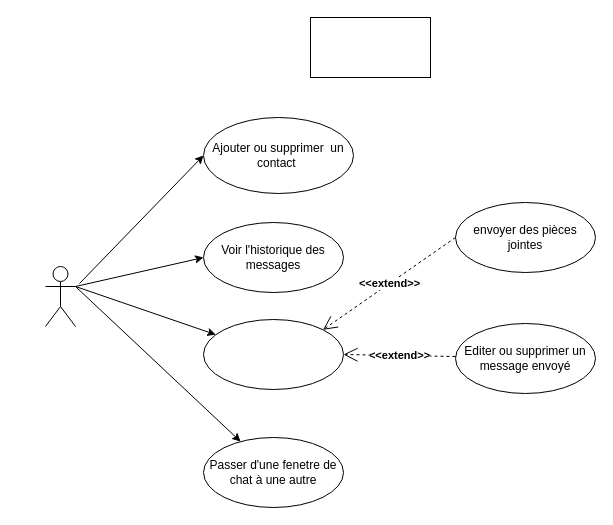
This 613x525 diagram has some shape labels left out. Here are the shapes that lost their labels. From the top down, the centre of each, then its label:
(x=370, y=47): Interface de chat
(x=60, y=296): élève / bénévole
(x=273, y=354): Envoyer un message
